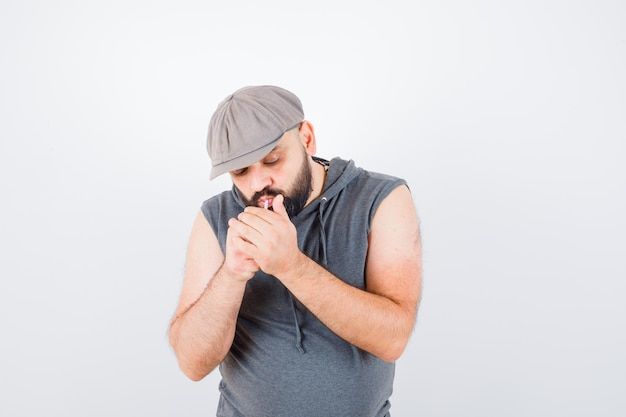cigarette: (261, 197, 270, 212)
